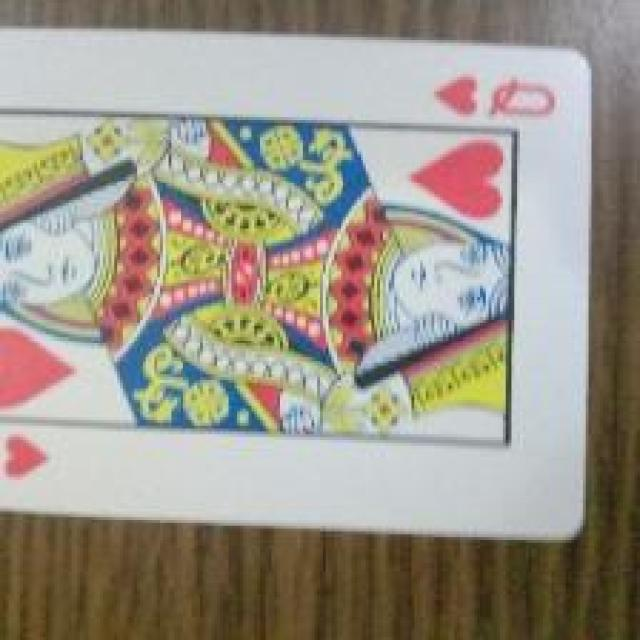Queen of hearts: (1, 30, 589, 536)
